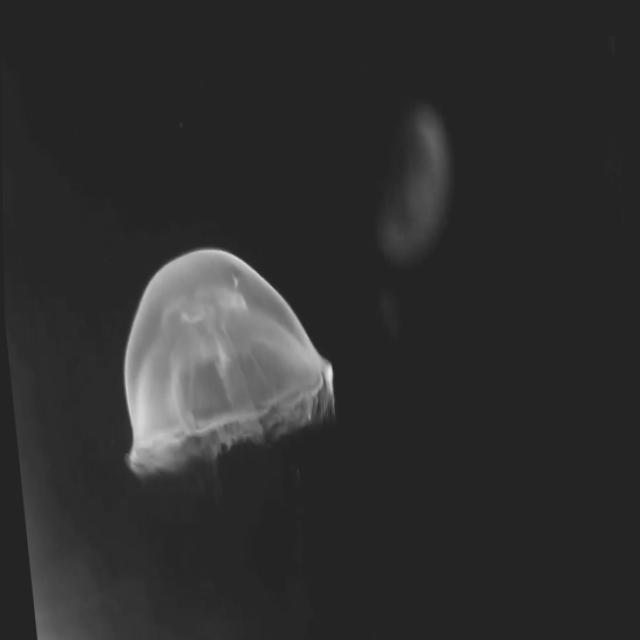Moon-jellyfish: (121, 245, 332, 474)
